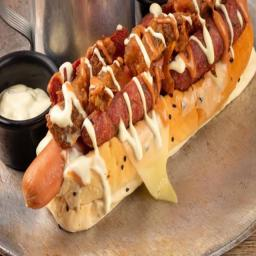hotdog: (20, 0, 256, 234)
